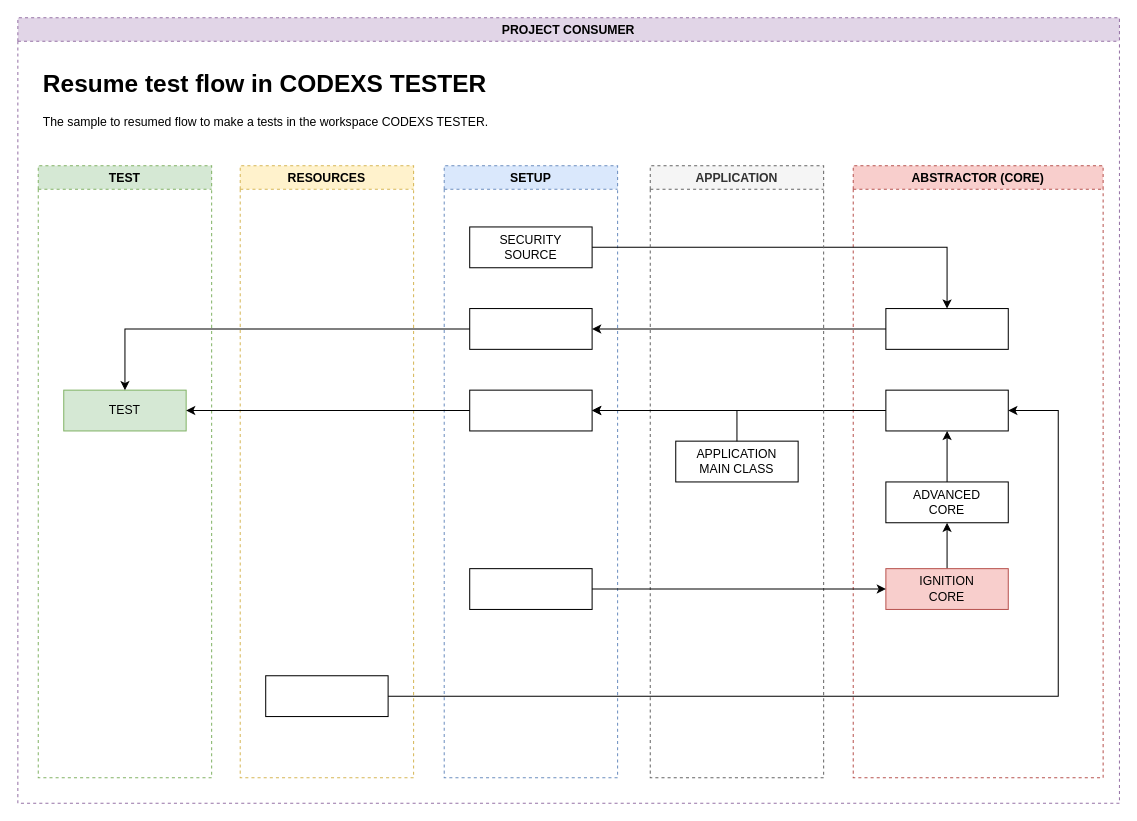
Some shapes in this 1137 by 821 pixel diagram are drawn without their labels. Here are the shapes that lost their labels. From the top down, the centre of each, then its label:
At (x=530, y=328): "DATASOURCE".
At (x=946, y=328): "SECURITY CORE".
At (x=530, y=410): "BRIDGE".
At (x=946, y=410): "CORE".
At (x=530, y=588): "ADVANCED SETUP".
At (x=326, y=696): "TEST PROPERTIES FILE".
